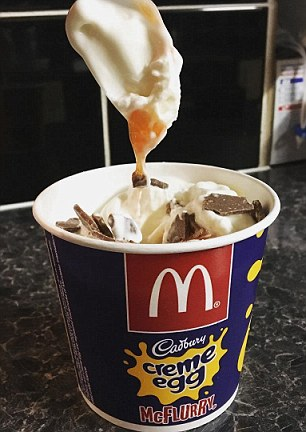mcdonalds: (141, 261, 223, 318)
